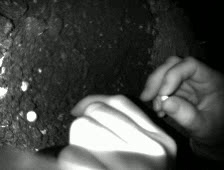corn: (24, 109, 39, 125), (19, 79, 30, 93), (159, 93, 170, 102)
